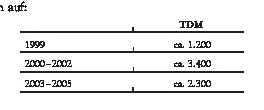table: (0, 0, 264, 110)
